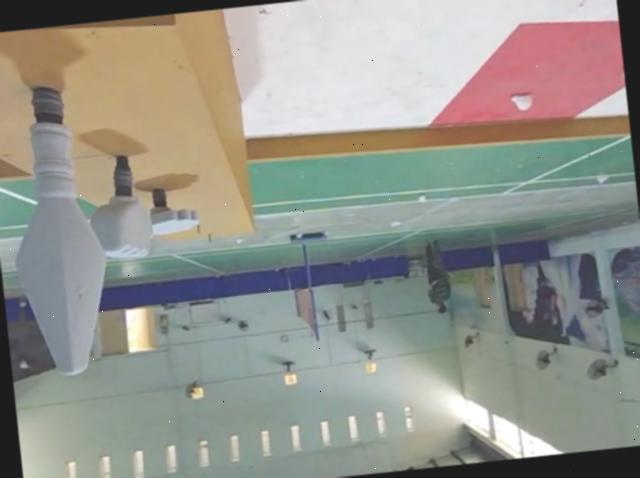Fist: (83, 153, 157, 265)
Hand: (143, 186, 197, 241)
Sph: (0, 78, 118, 383)
